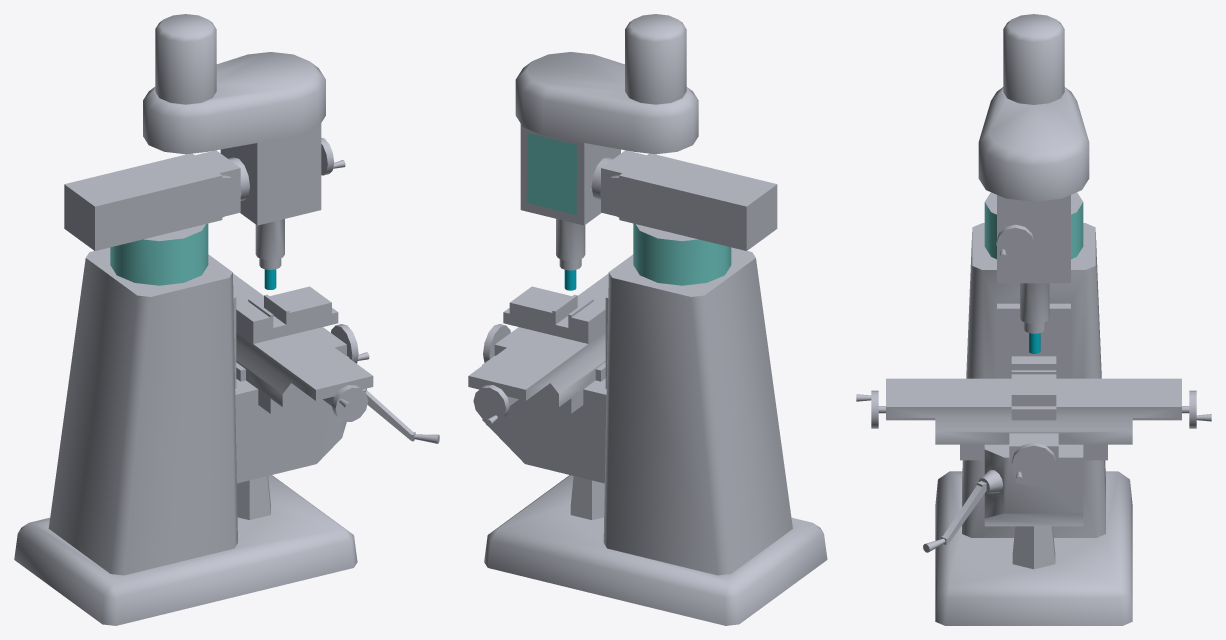
Rendered from Mill2.fbx.
3 views of the same model, side by side, from view 1: azimuth 30°, elevation 25°; view 2: azimuth 150°, elevation 25°; view 3: azimuth 270°, elevation 25° (orthographic).
Visible parts, largest first — view 1: node_id4, node_id4.001; view 2: node_id4, node_id4.001; view 3: node_id4, node_id4.001.
Part boxes in pixels (x1,y1,x2,y2): node_id4: (14,14,439,625); node_id4.001: (255,219,284,289); node_id4: (468,14,827,625); node_id4.001: (556,219,585,290); node_id4: (856,14,1211,625); node_id4.001: (1020,283,1049,353).
Bounding box in the file's own units: 14.45 × 22.47 × 13.43.
